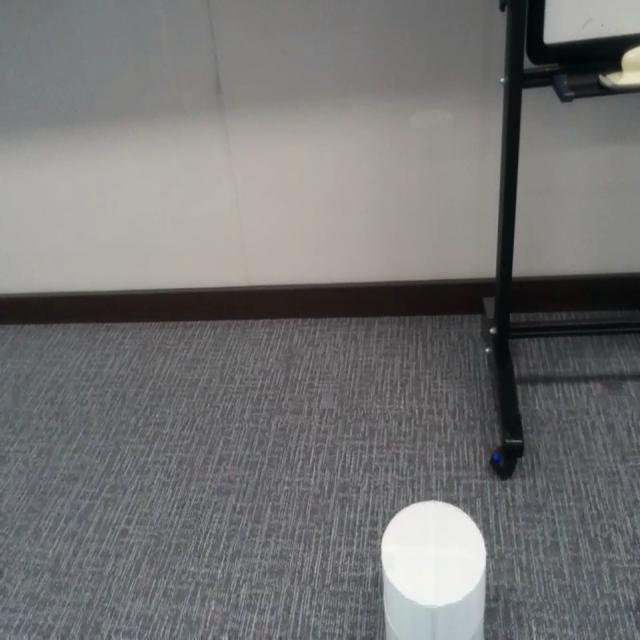cylinder: (380, 500, 487, 638)
